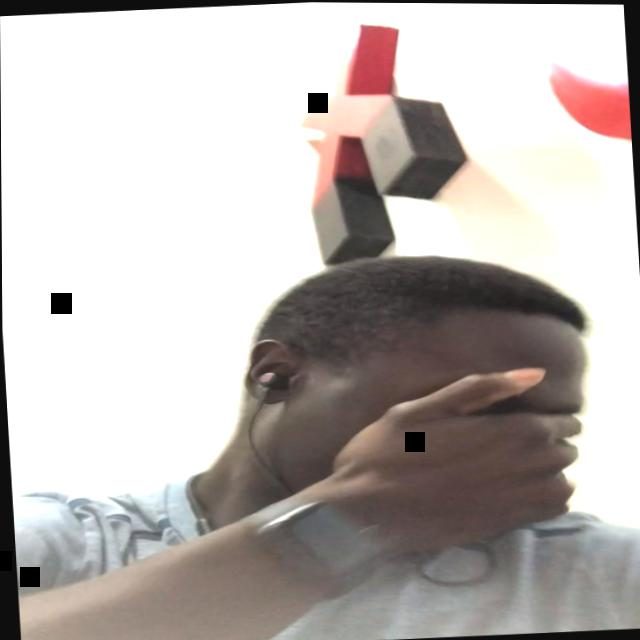NO-Mask: (270, 321, 603, 522)
